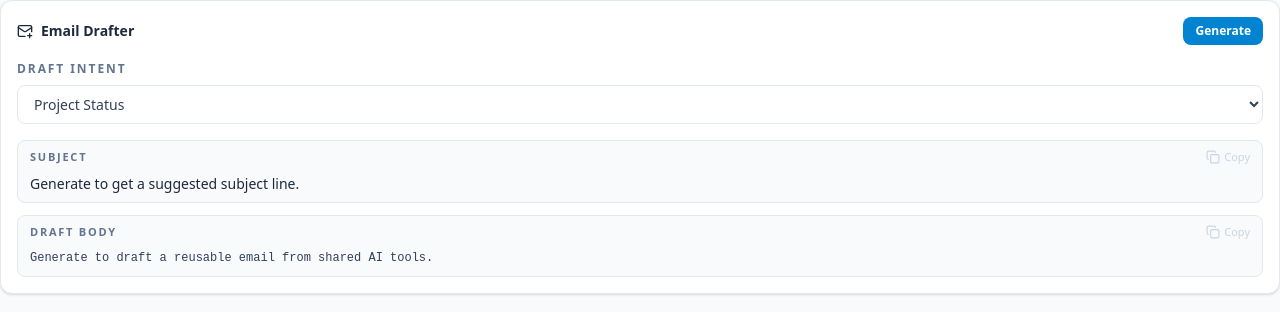
Test: EmailDrafter › posts to the shared draft-email route and renders subject/body
Click the button "Generate".
click(1223, 31)  # box [1184,17,1263,45]
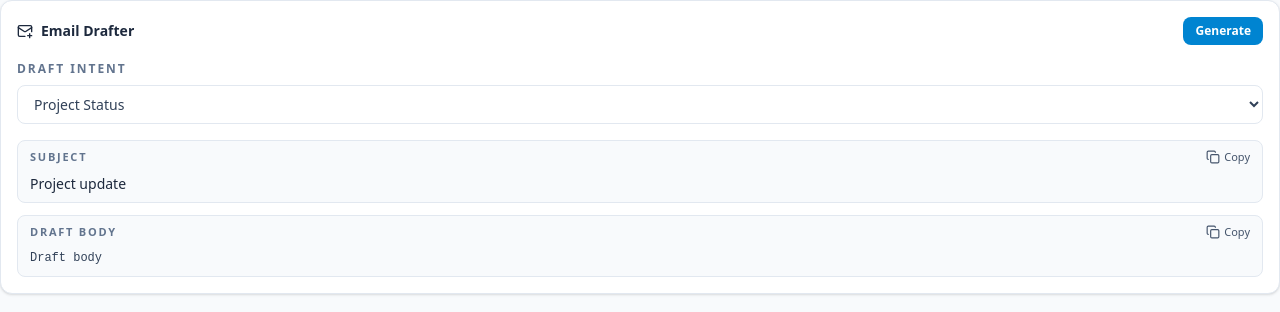
expect the text "Project update" is shown: met, box [30,174,126,192]
expect the text "Draft body" is shown: met, box [30,251,102,265]
